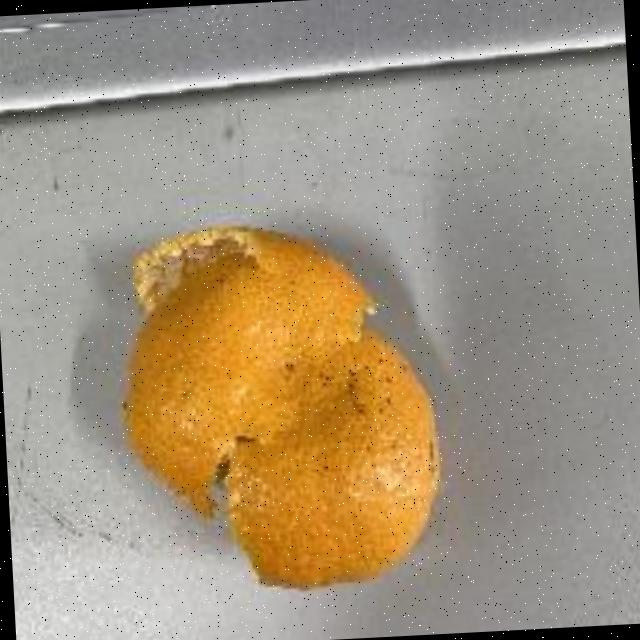orange-peel: (110, 210, 450, 600)
